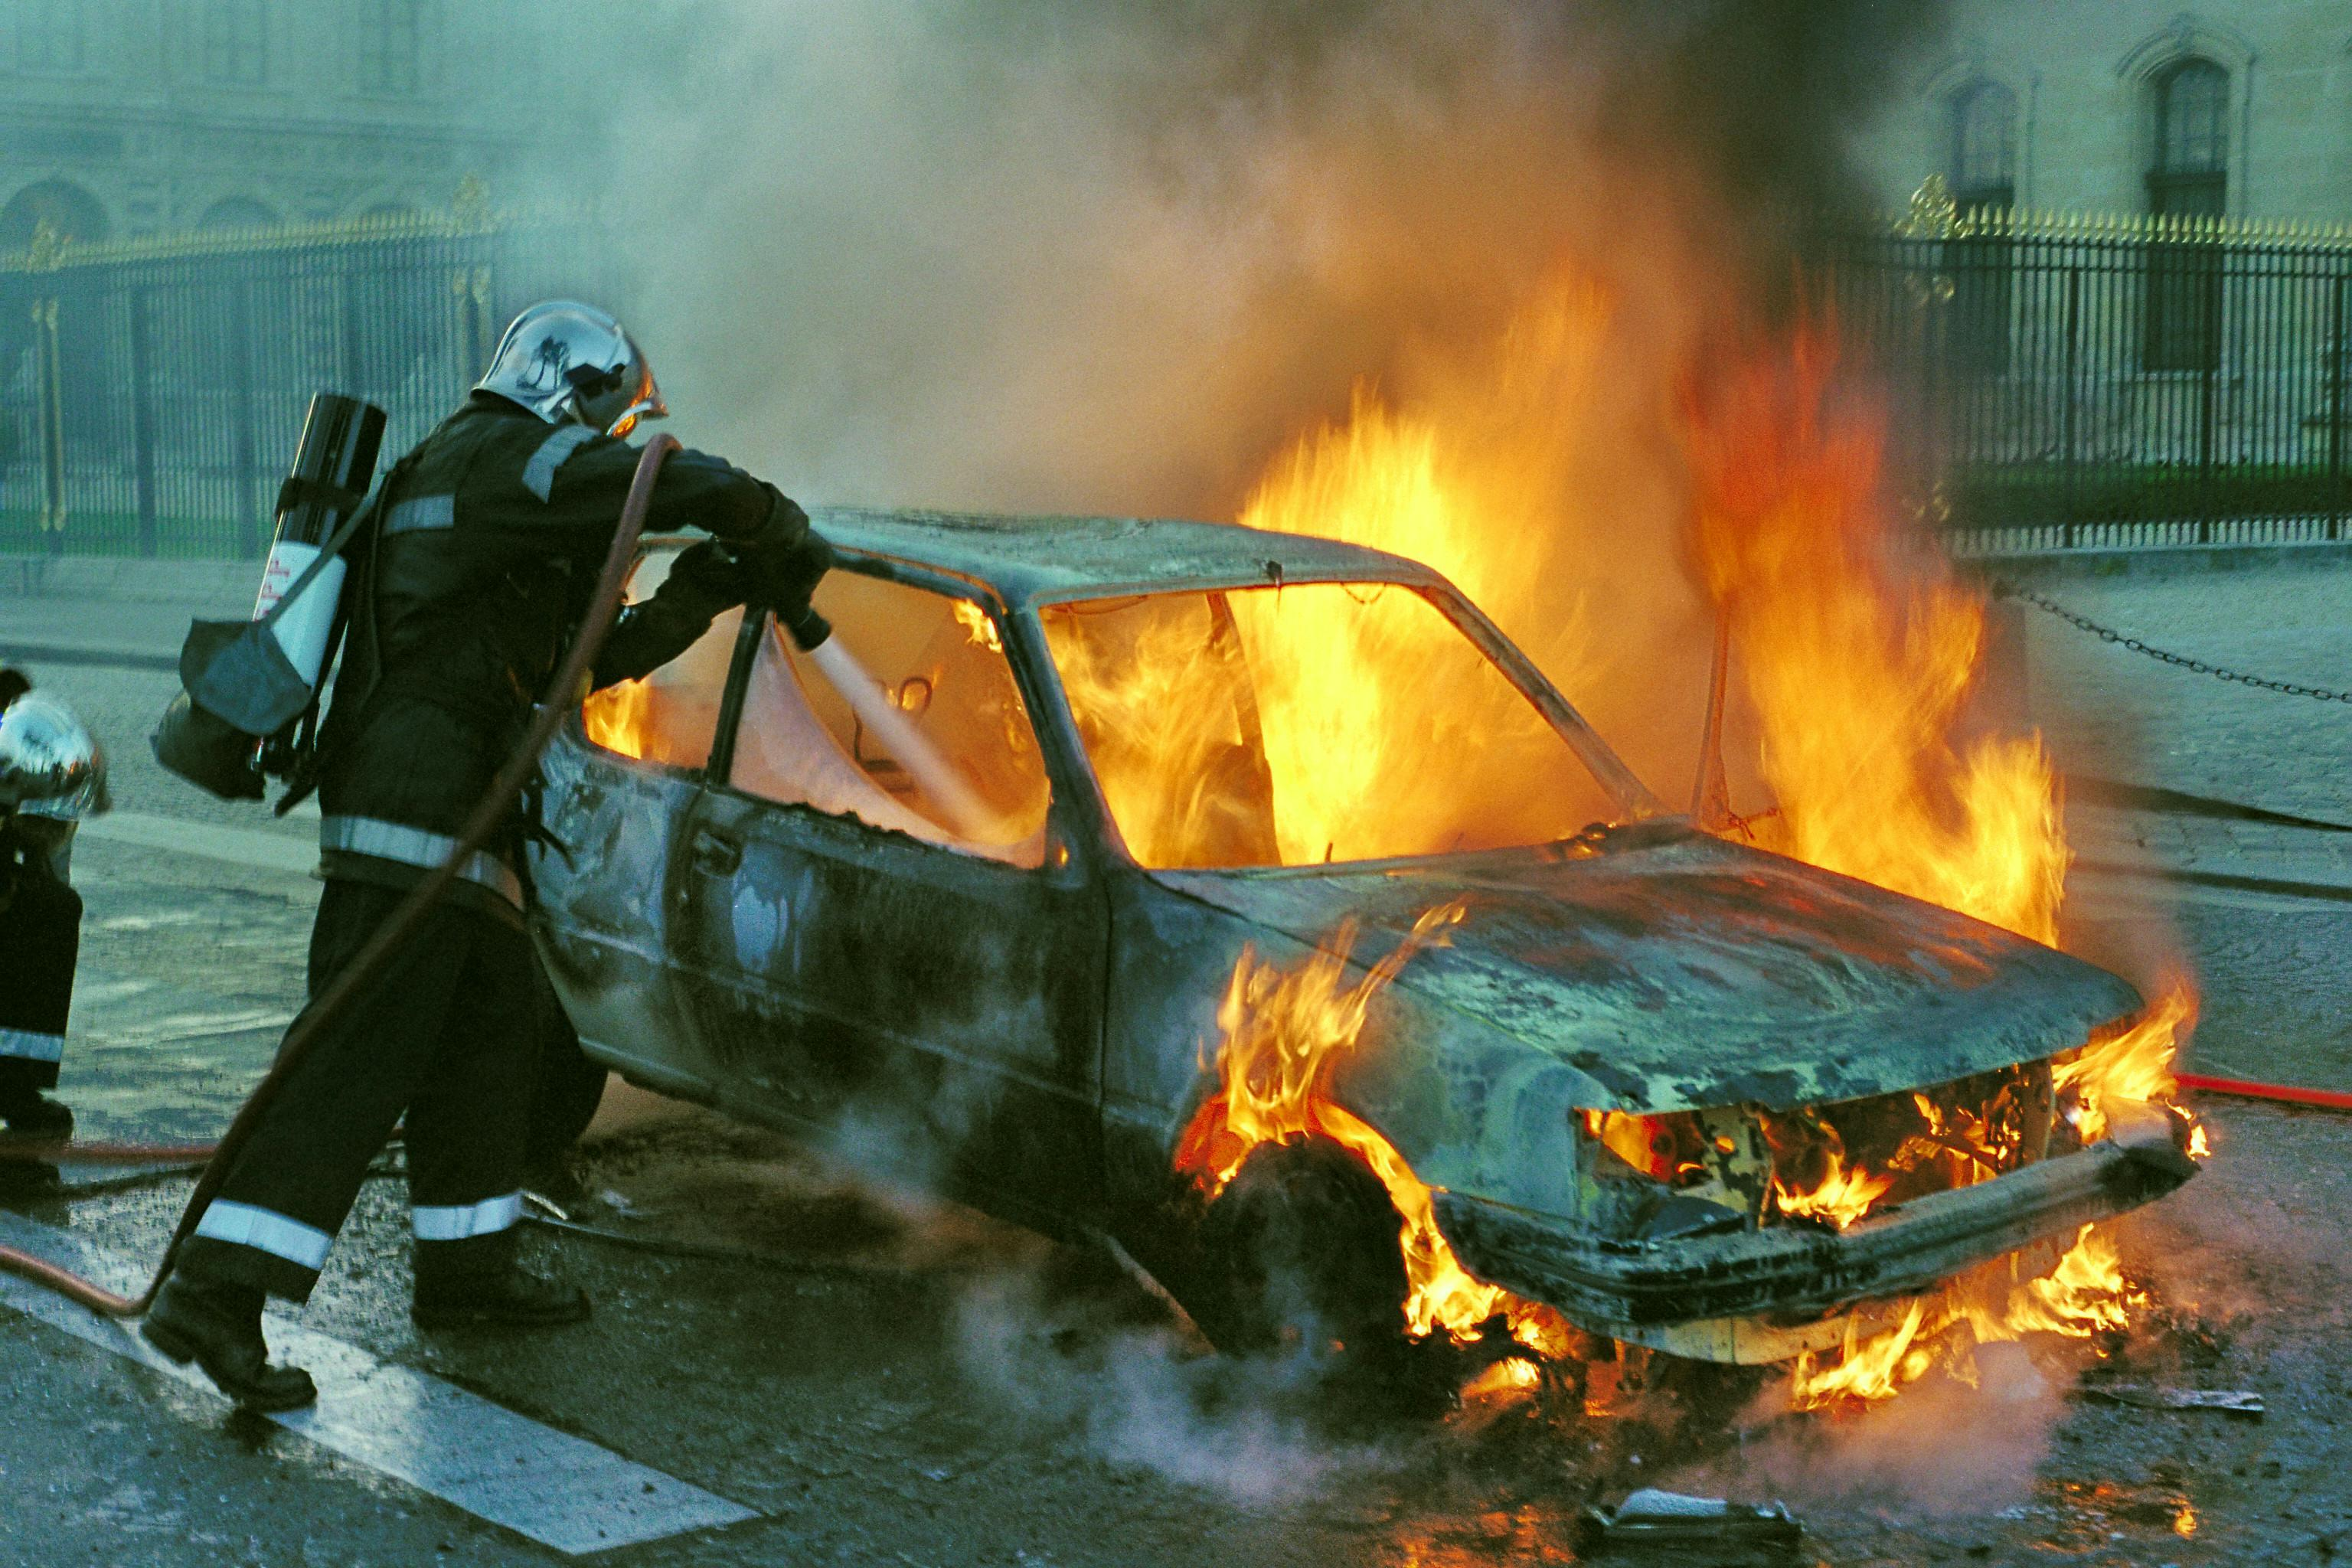smoke: (1153, 327, 2060, 961), (1587, 990, 2205, 1214), (955, 588, 1465, 852), (1167, 908, 1440, 1188), (1795, 1221, 2191, 1407), (1403, 1204, 1655, 1426), (588, 658, 665, 779)
